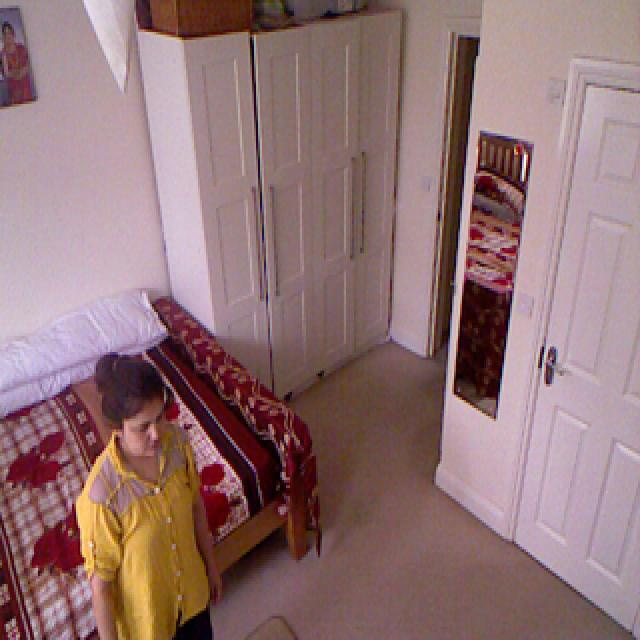standing: (74, 354, 220, 640)
